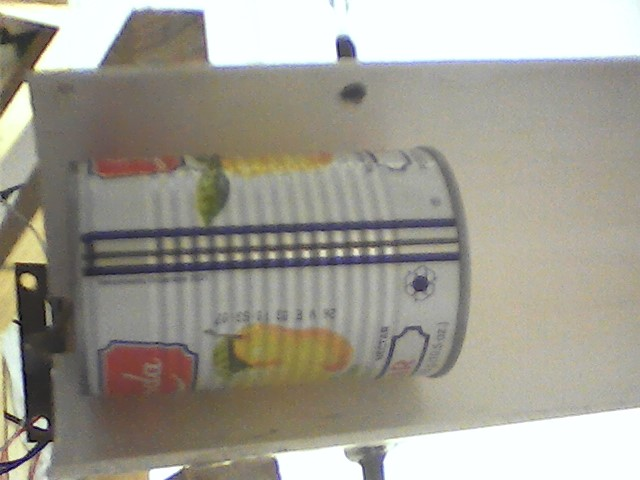lata: (62, 140, 484, 414)
